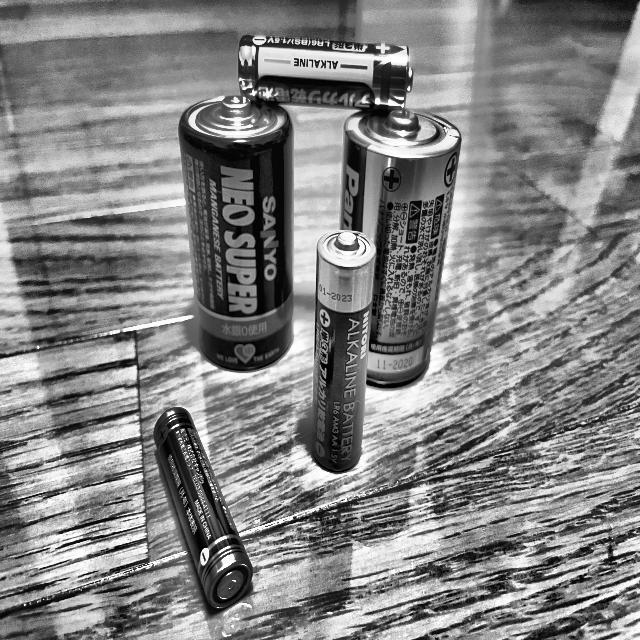drycell: (338, 107, 463, 392), (177, 92, 294, 376), (152, 408, 254, 616), (238, 36, 414, 110)
